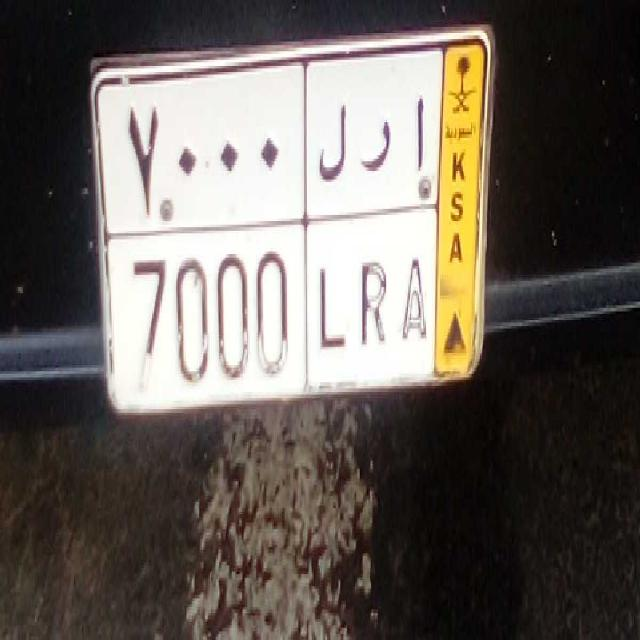license_plate: (101, 220, 438, 407)
